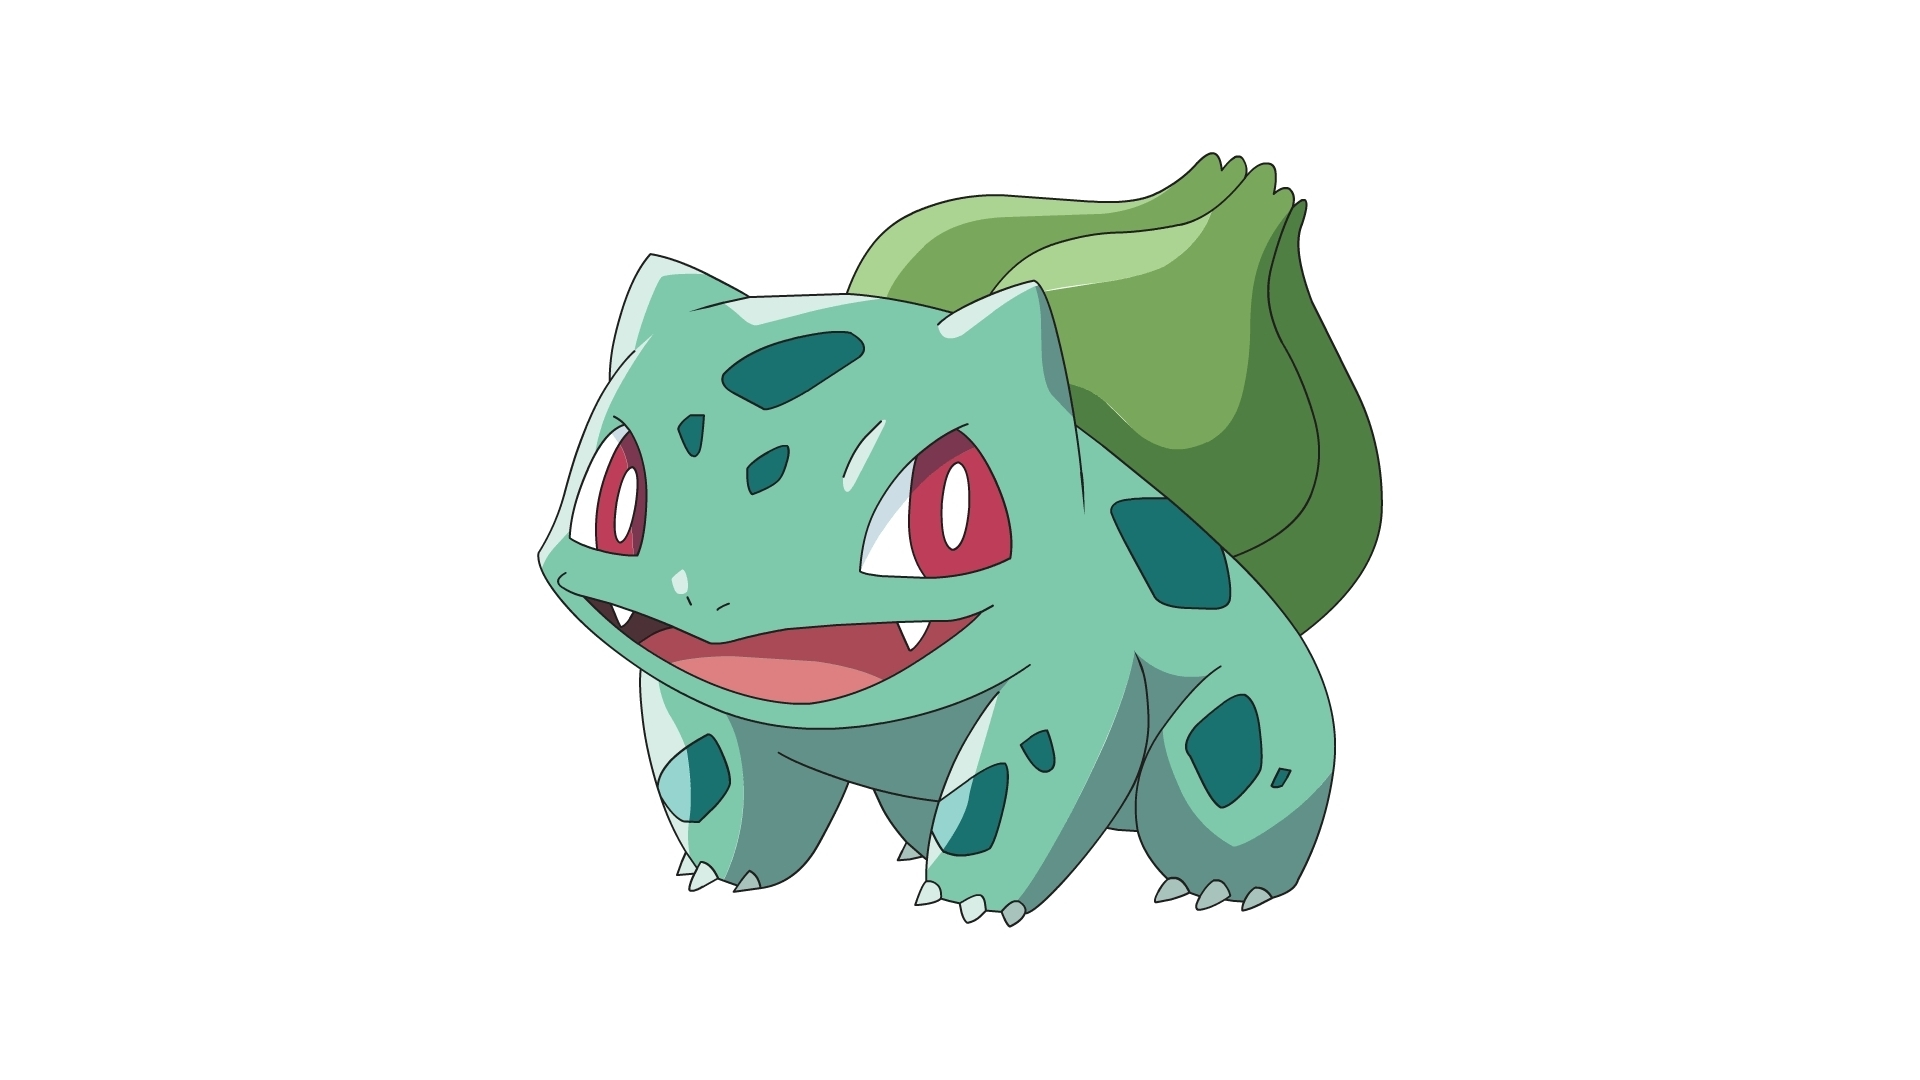bulbasaur: (477, 142, 1513, 931)
